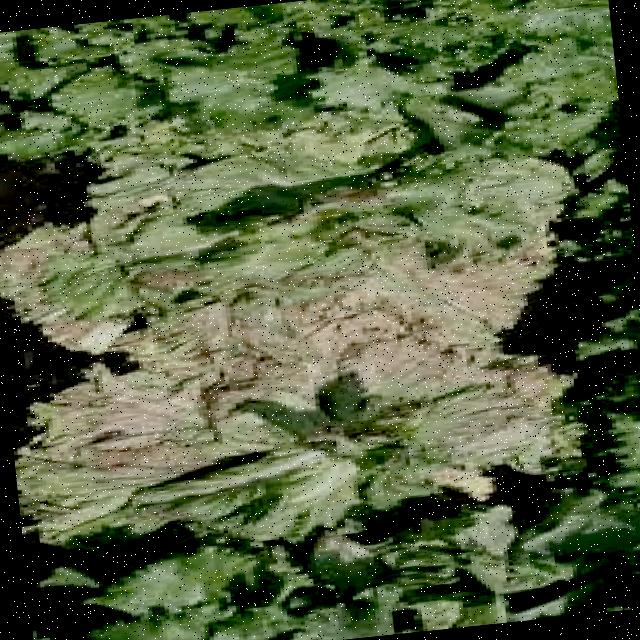Wilt_and_leaf_blight_on_lettuce: (98, 155, 505, 530)
